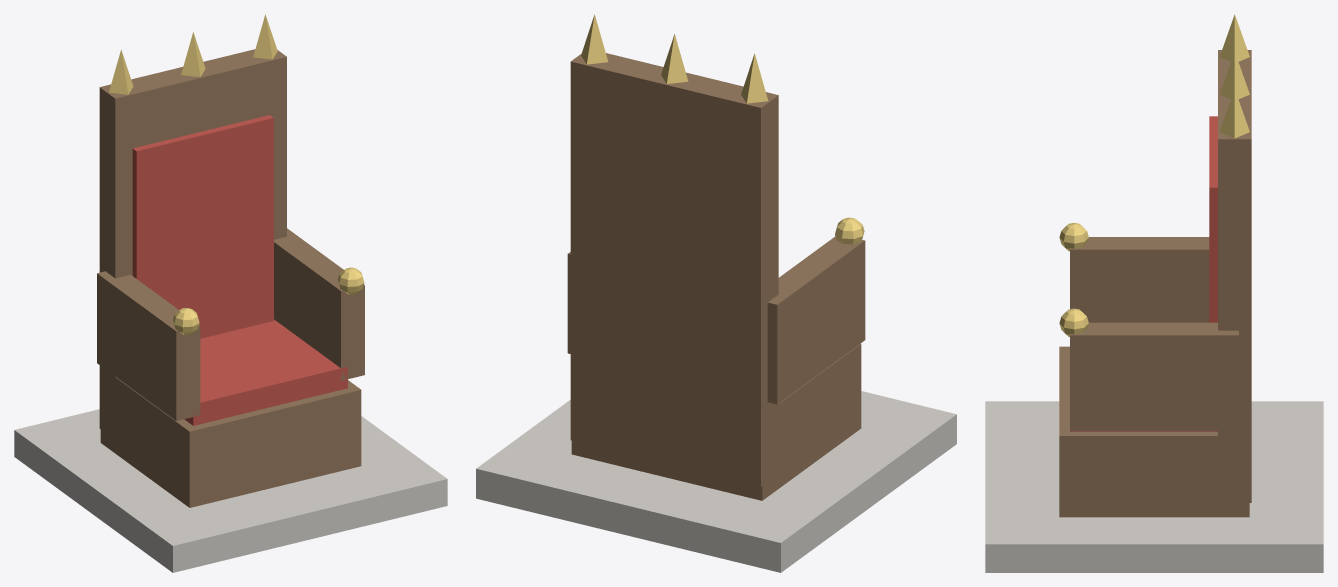
File: throne.glb
3 renders of one model, left to right at view 1: azimuth 30°, elevation 25°; view 2: azimuth 150°, elevation 25°; view 3: azimuth 270°, elevation 25°, orthographic. The views are drawn at different scales.
Parts seen in each view (by area): view 1: throne; view 2: throne; view 3: throne.
Boxes of the visible parts, box(x1,y1,x2,y2) form: throne: box(14, 14, 447, 572); throne: box(476, 14, 956, 572); throne: box(985, 14, 1323, 572).
Size of the model in its own units: 1.6 by 2.35 by 1.6.
